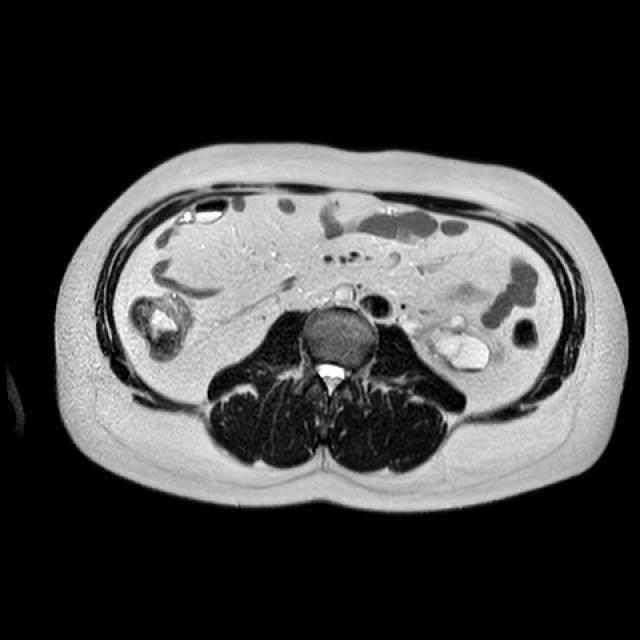sol: (407, 311, 507, 372)
